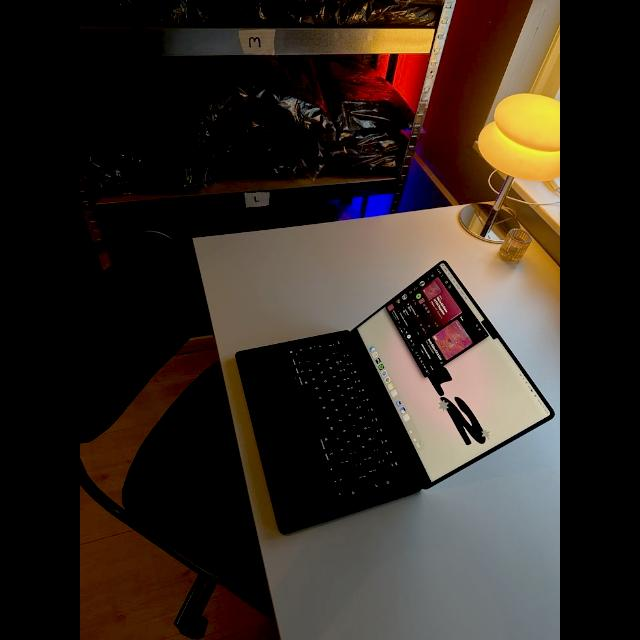laptop: (250, 264, 530, 516)
